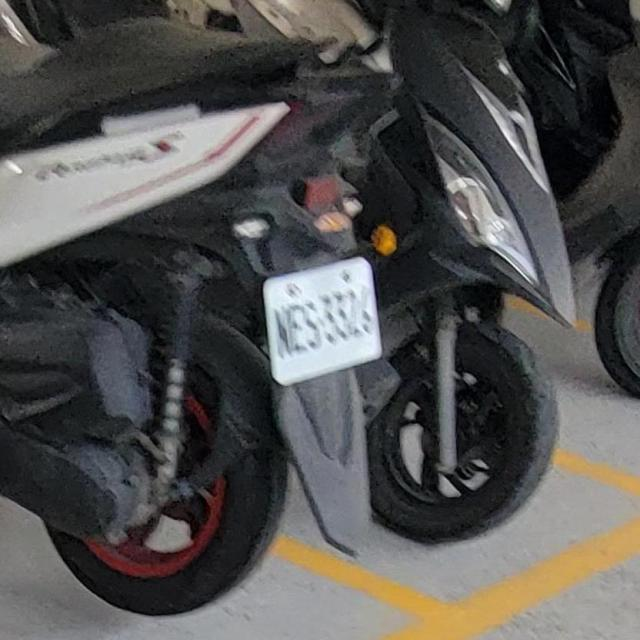W: (250, 244, 398, 403)
